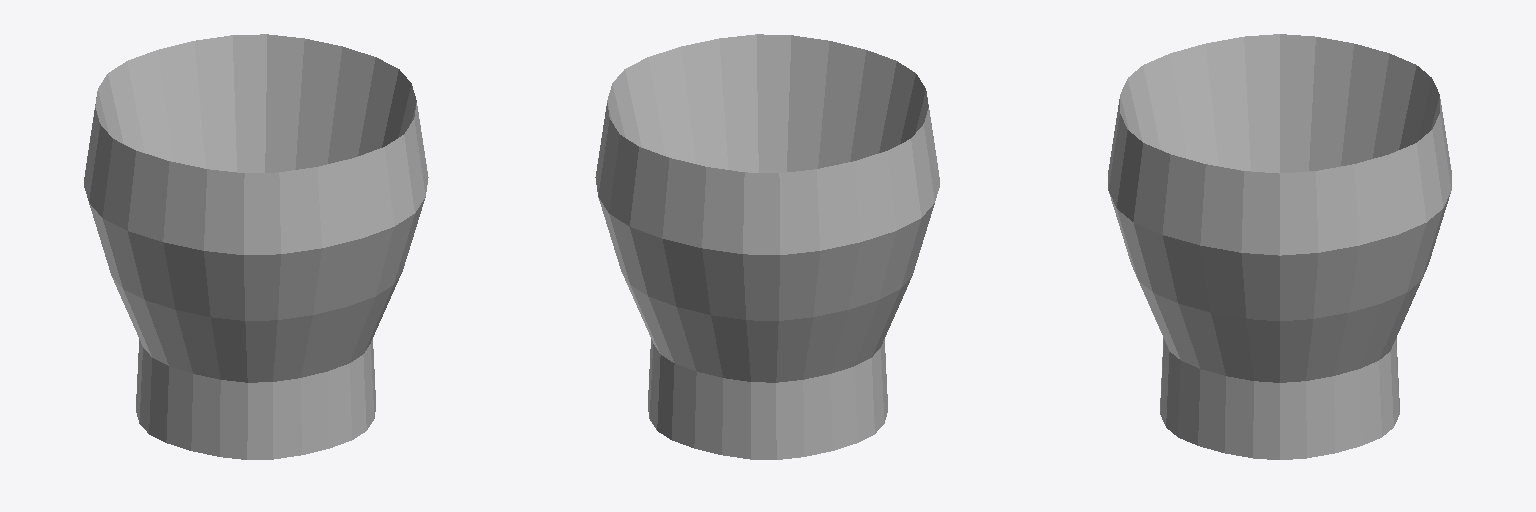
The model's file is Cup1.obj.
3 renders of one model, left to right at view 1: azimuth 30°, elevation 25°; view 2: azimuth 150°, elevation 25°; view 3: azimuth 270°, elevation 25°, orthographic.
Parts seen in each view (by area): view 1: Cylinder01; view 2: Cylinder01; view 3: Cylinder01.
Part boxes in pixels (x1,y1,x2,y2): Cylinder01: (84, 34, 428, 459); Cylinder01: (595, 34, 939, 459); Cylinder01: (1108, 34, 1451, 459).
Bounding box in the file's own units: 43.5 × 41.23 × 42.13.